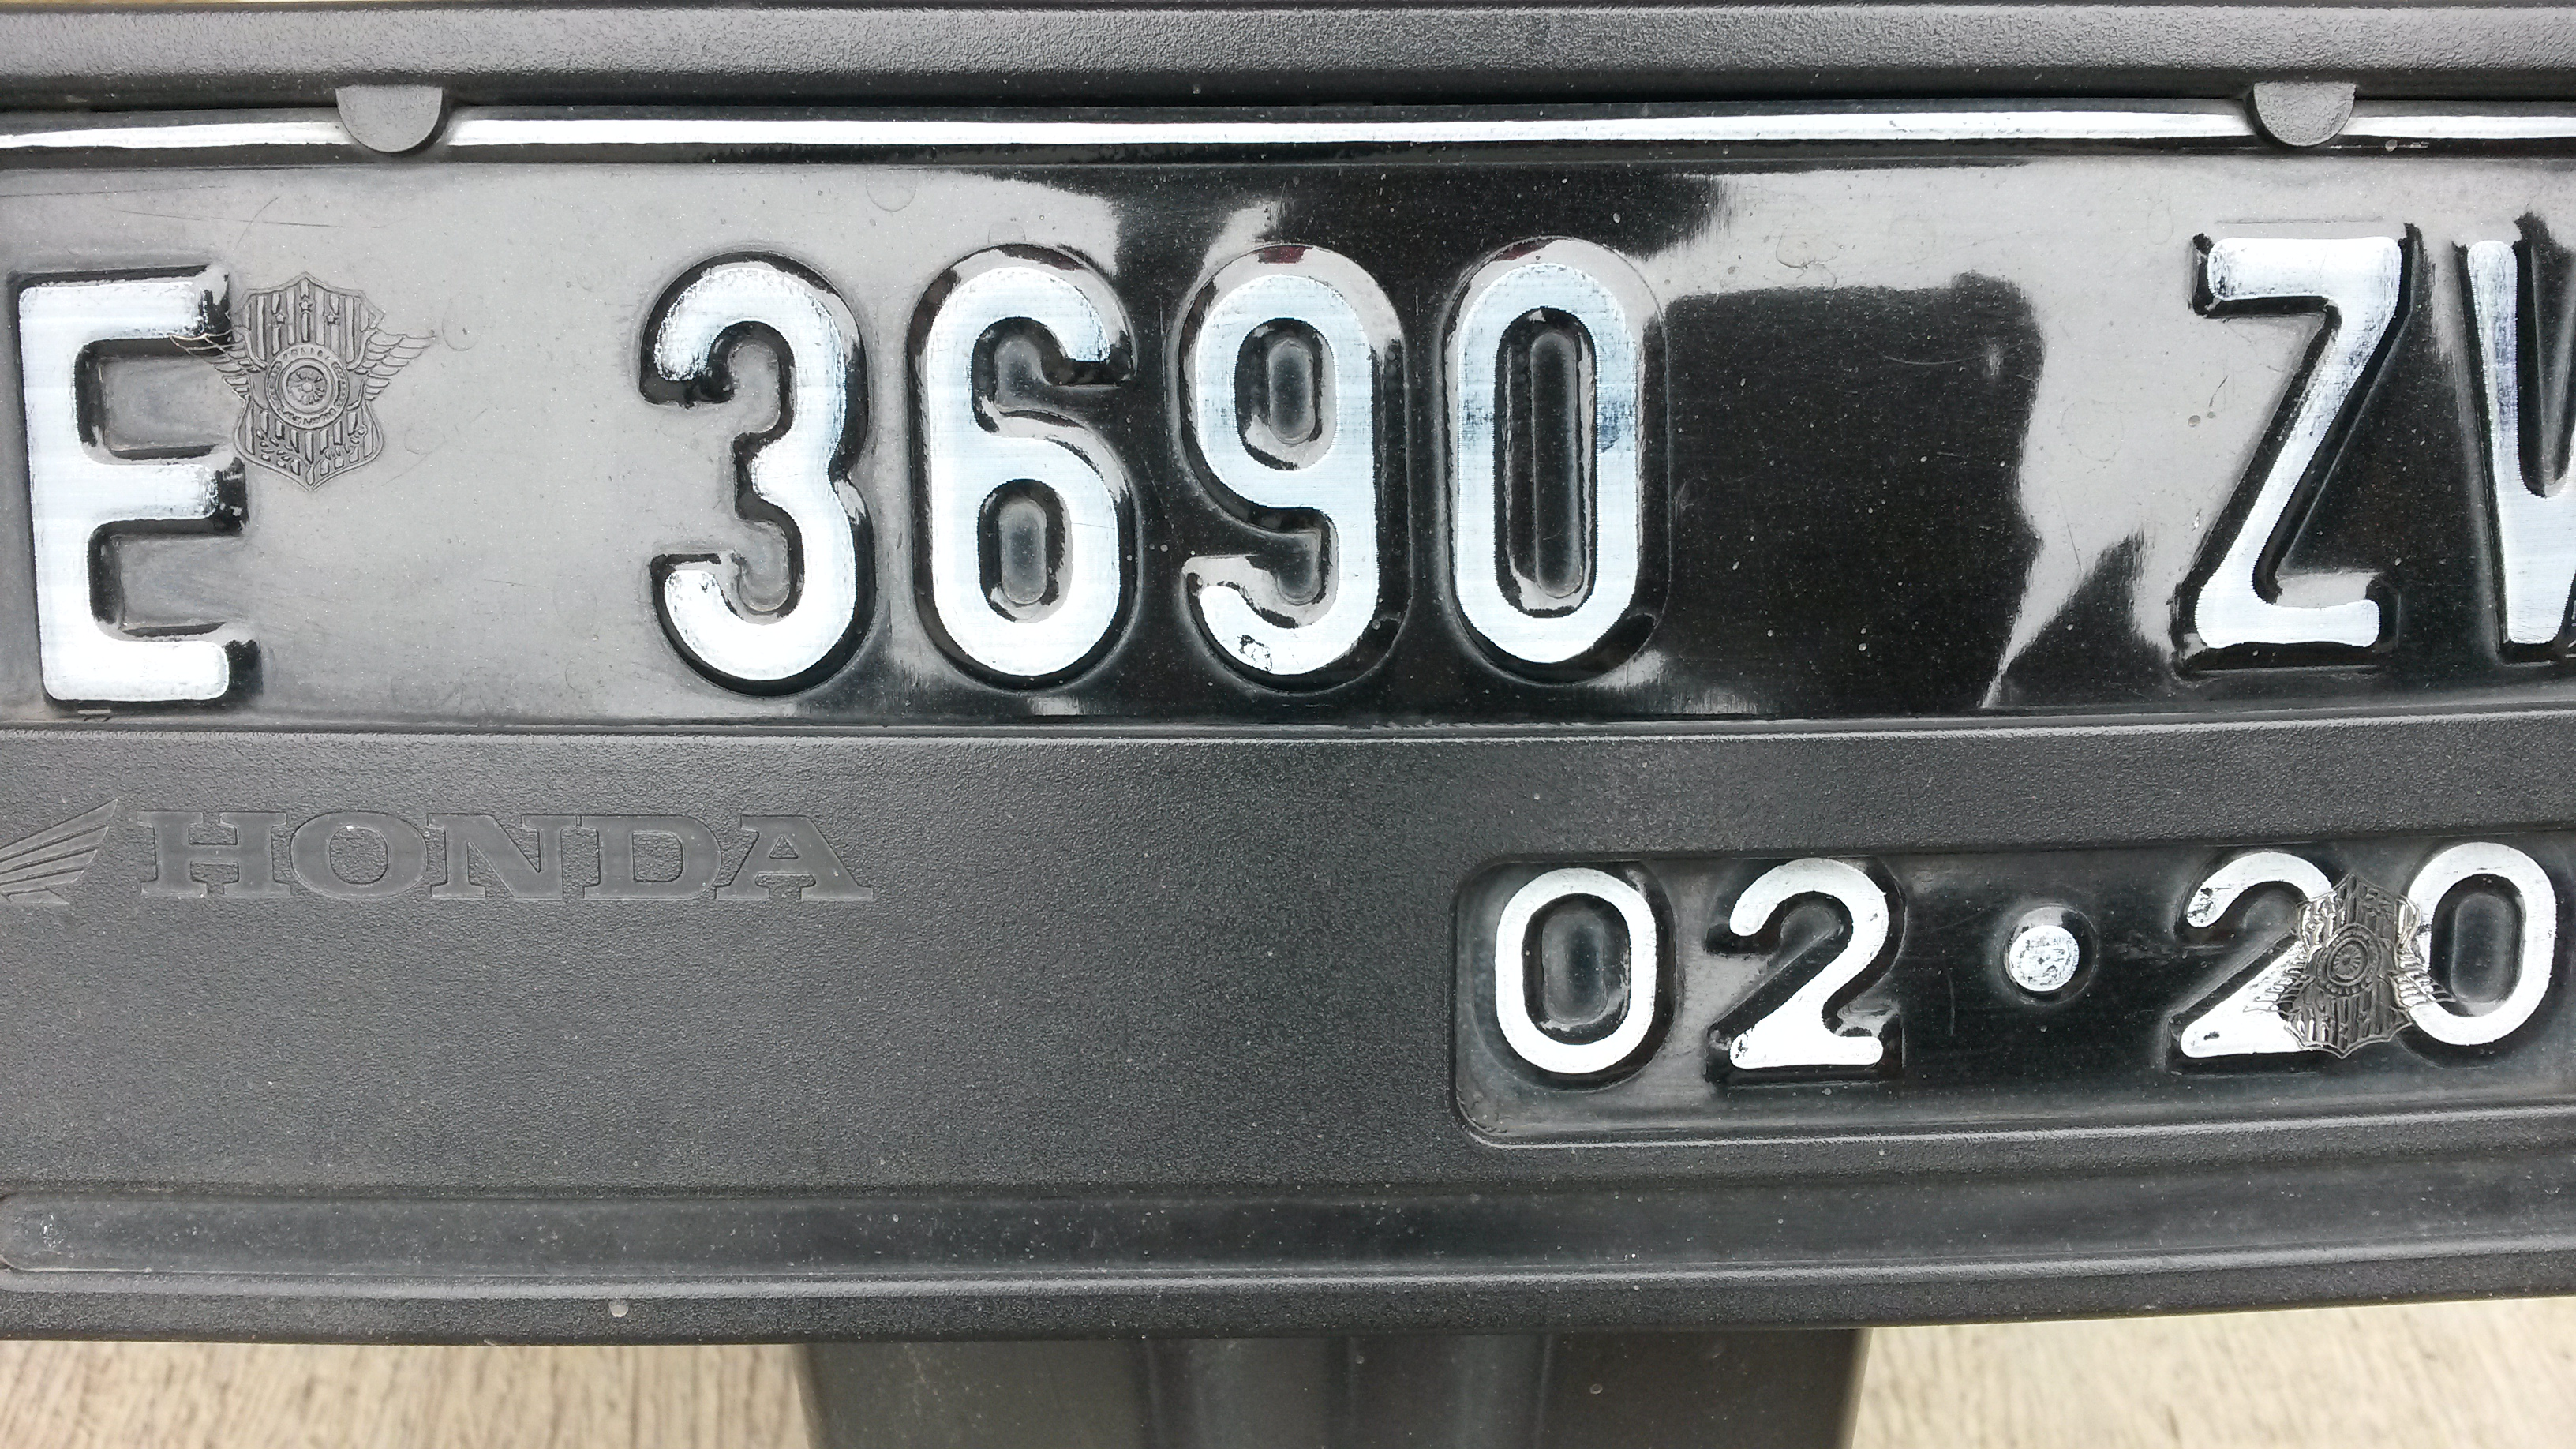plate: (1, 122, 2576, 1145)
